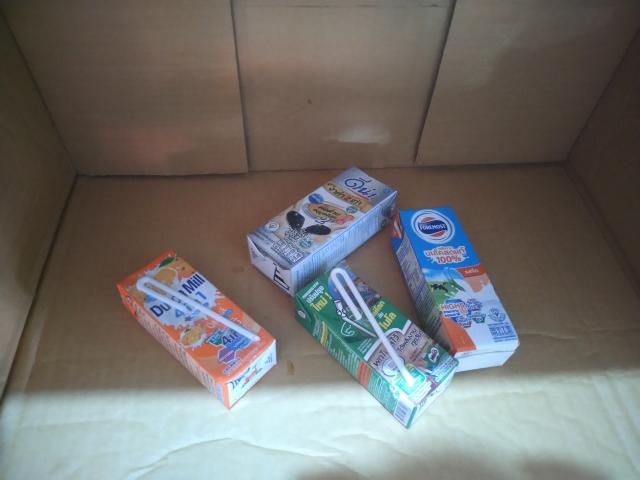drink_box: (99, 234, 298, 418), (270, 250, 467, 435), (232, 147, 422, 303), (379, 198, 531, 370)
